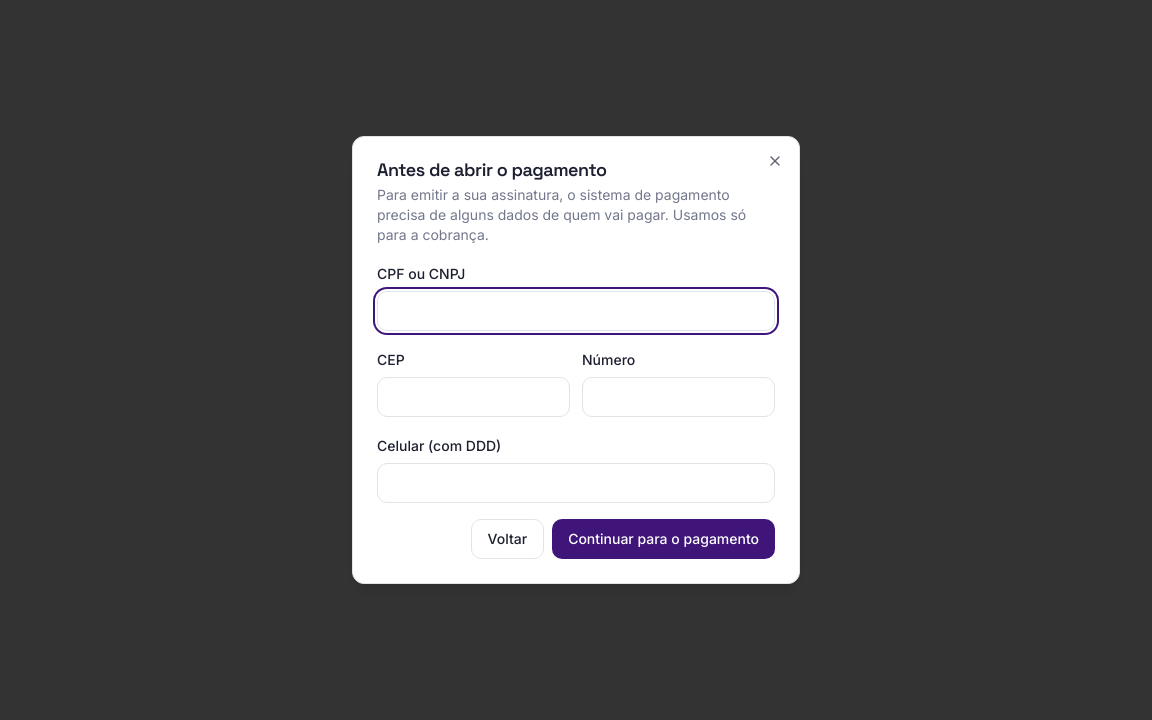
Scenario: billing dialog › all missing groups submit exactly cpfCnpj/endereco/celular
This screenshot has width=1152, height=720.
Later steps or results of the test are not shown.
Type "52998224725" into the field labelled "CPF ou CNPJ" at (576, 311), box x1=377 y1=291 x2=775 y2=331
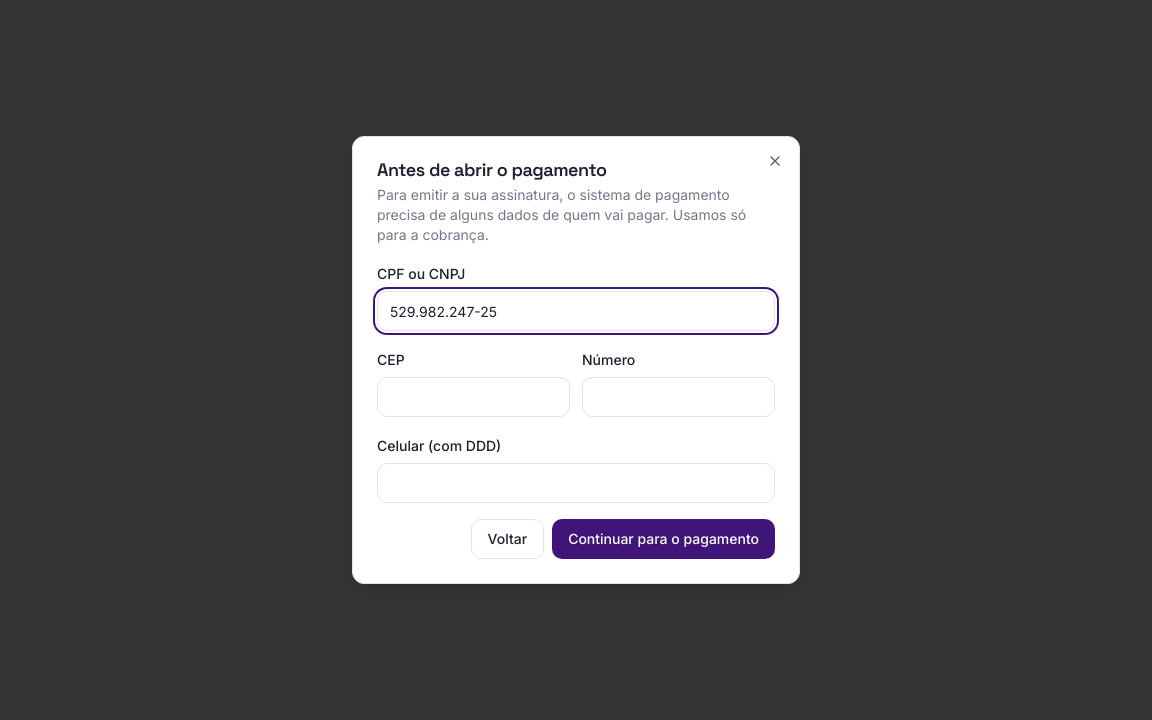
Type "01310100" into the field labelled "CEP" at (474, 397), box x1=377 y1=377 x2=570 y2=417
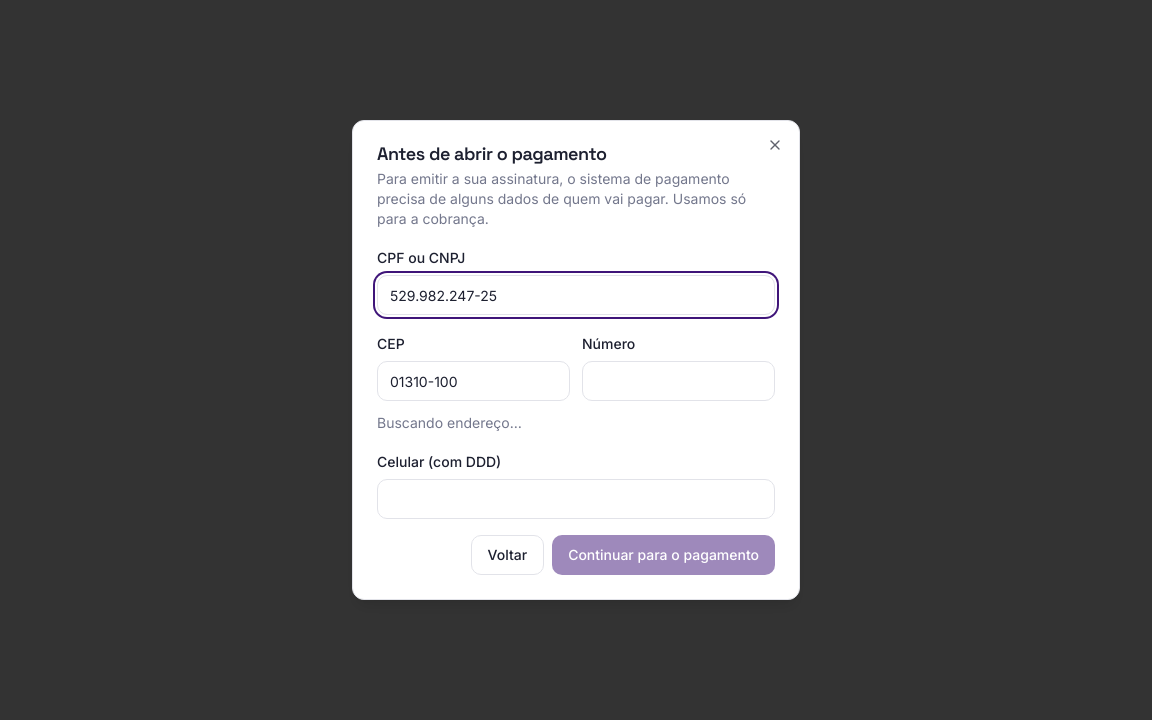
Type "10" into the field labelled "Número" at (678, 381), box x1=582 y1=361 x2=775 y2=401
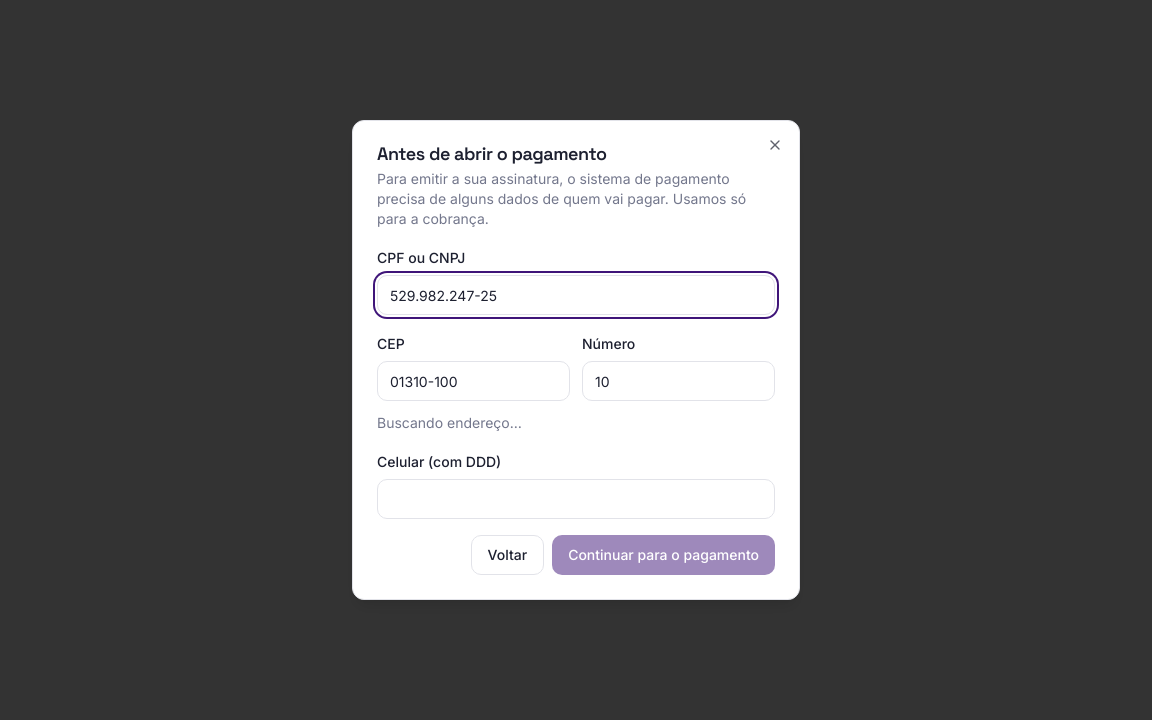
Type "11987654321" into the field labelled "Celular (com DDD)" at (576, 499), box x1=377 y1=479 x2=775 y2=519
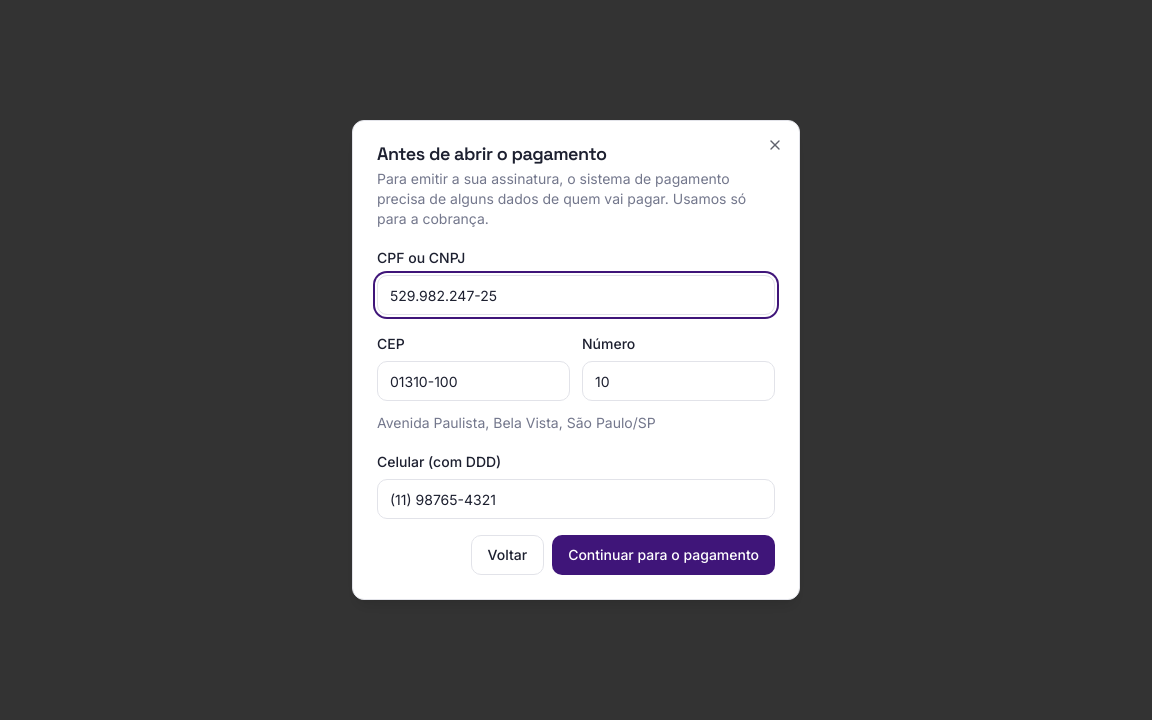
Expected: the text "Avenida Paulista, Bela Vista, São Paulo/SP" is shown, x1=377 y1=414 x2=656 y2=431
